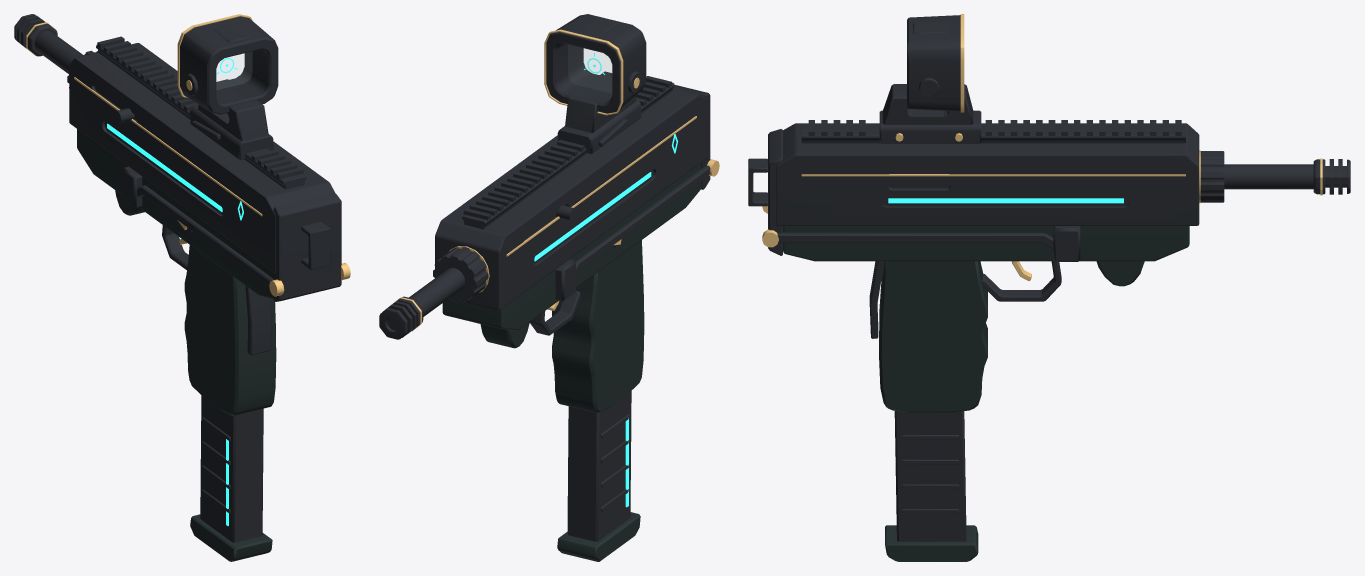
Rendered from weapon_uzi.glb.
3 renders of one model, left to right at view 1: azimuth 30°, elevation 25°; view 2: azimuth 150°, elevation 25°; view 3: azimuth 270°, elevation 25°, orthographic. The views are drawn at different scales.
Visible parts, largest first — view 1: uzi_metal, uzi_polymer, uzi_gold, uzi_glow, uzi_glass; view 2: uzi_metal, uzi_polymer, uzi_gold, uzi_glass, uzi_glow; view 3: uzi_metal, uzi_polymer, uzi_gold, uzi_glow.
Boxes of the visible parts, x1,y1,x2,y2 form: uzi_metal: (14, 14, 341, 542); uzi_polymer: (77, 129, 276, 561); uzi_gold: (26, 14, 350, 296); uzi_glow: (107, 58, 243, 525); uzi_glass: (217, 52, 251, 89); uzi_metal: (379, 14, 710, 541); uzi_polymer: (442, 163, 701, 561); uzi_gold: (393, 29, 719, 331); uzi_glass: (568, 45, 611, 92); uzi_glow: (534, 53, 678, 507); uzi_metal: (748, 15, 1350, 541); uzi_polymer: (783, 107, 1189, 561); uzi_gold: (762, 14, 1322, 280); uzi_glow: (888, 198, 1123, 203).
Size of the model in its own units: 0.0795 by 0.469 by 0.486.
